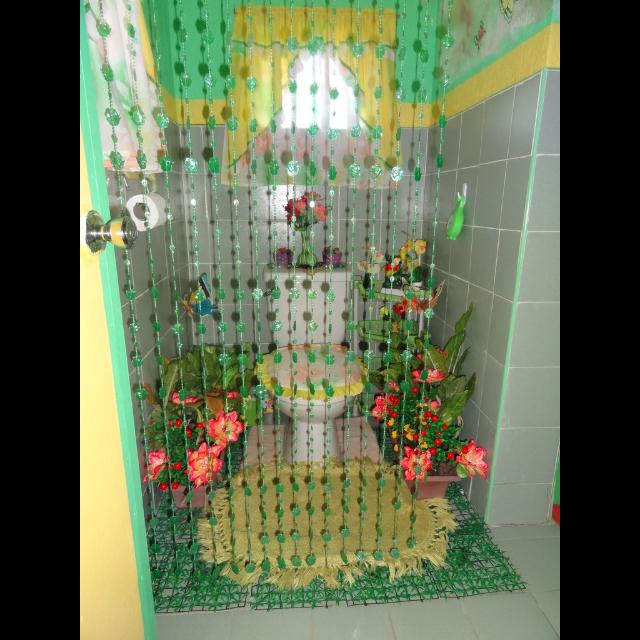Flower: (185, 443, 223, 493), (400, 444, 434, 484), (458, 442, 488, 478), (208, 414, 245, 442), (372, 395, 400, 425), (146, 452, 168, 482), (412, 367, 444, 385), (412, 348, 446, 364), (401, 240, 425, 260), (397, 296, 418, 318), (283, 199, 303, 221), (170, 394, 196, 408), (420, 291, 436, 311), (314, 204, 328, 224), (421, 400, 439, 410), (421, 410, 434, 422), (226, 392, 242, 401), (372, 250, 386, 260), (384, 384, 396, 394), (388, 411, 396, 424), (185, 429, 195, 439), (158, 481, 166, 493), (174, 462, 184, 471), (388, 264, 397, 274), (196, 421, 204, 432), (170, 480, 178, 490), (392, 428, 398, 439), (355, 264, 363, 272), (175, 419, 181, 429), (442, 423, 448, 433), (419, 430, 427, 436), (434, 438, 442, 444), (446, 454, 452, 461), (394, 444, 400, 450), (408, 432, 414, 438)
